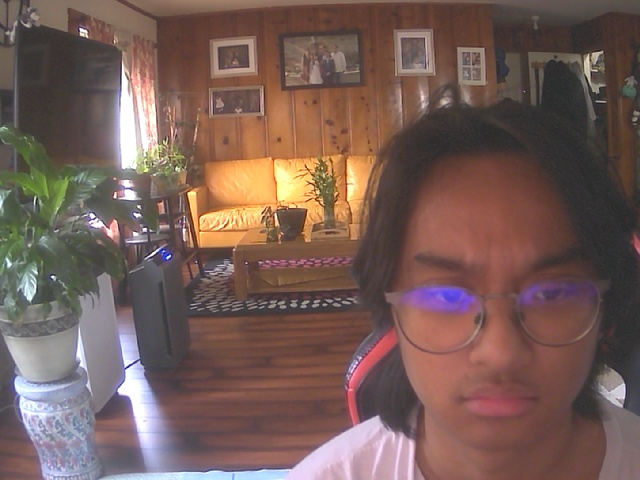anger: (382, 124, 626, 453)
